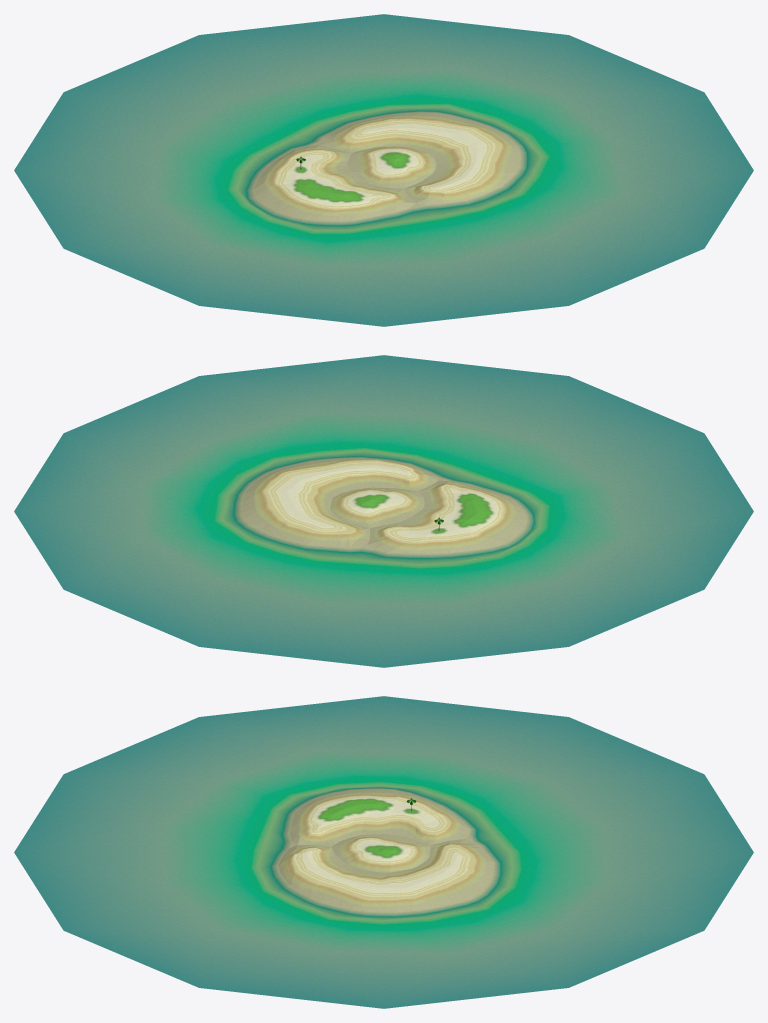
File: mini_stage3-mini_stage3.glb
3 views of the same model, one above another, from view 1: azimuth 30°, elevation 25°; view 2: azimuth 150°, elevation 25°; view 3: azimuth 270°, elevation 25° (orthographic).
Parts seen in each view (by area): view 1: mini_stage3; view 2: mini_stage3; view 3: mini_stage3.
Boxes of the visible parts, x1,y1,x2,y2 form: mini_stage3: [14, 14, 753, 326]; mini_stage3: [14, 355, 753, 667]; mini_stage3: [14, 696, 753, 1008].
Bounding box in the file's own units: 375 × 10.89 × 375.
Materials: 6 (6 with a texture image).
